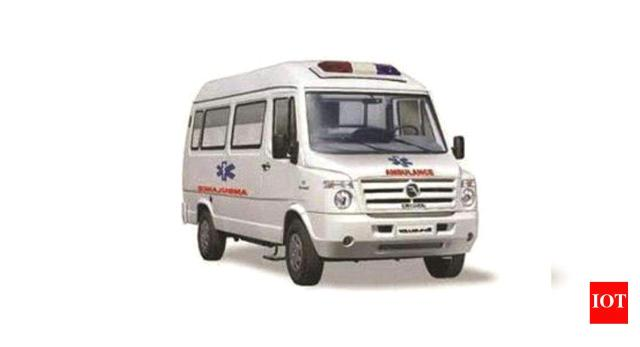ambulance: (178, 39, 485, 286)
